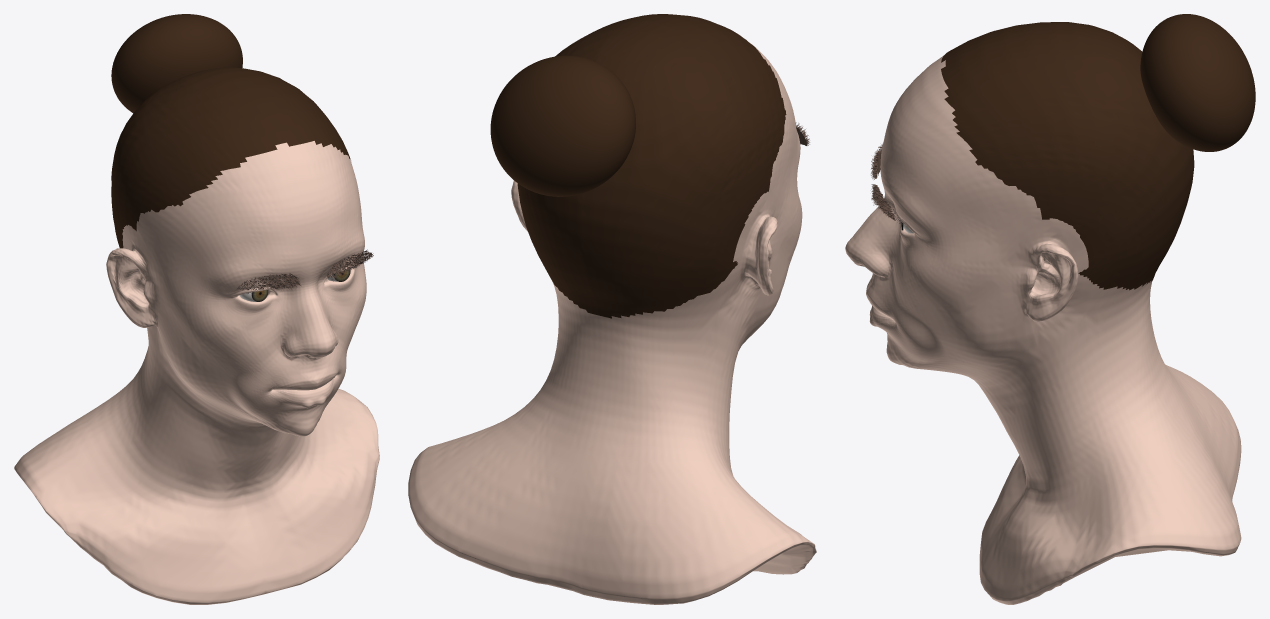
The model's file is bust-with-hair.glb.
The picture shows the model from 3 angles, left to right: view 1: azimuth 30°, elevation 25°; view 2: azimuth 150°, elevation 25°; view 3: azimuth 270°, elevation 25°; orthographic projection. The views are drawn at different scales.
Visible parts, largest first — view 1: bust_skin, hair_base, bun_core, eyebrow_hair; view 2: bust_skin, hair_base, bun_core; view 3: bust_skin, hair_base, bun_core, eyebrow_hair.
Boxes of the visible parts, x1,y1,x2,y2 form: bust_skin: [14, 141, 379, 604]; hair_base: [111, 67, 350, 248]; bun_core: [111, 14, 242, 113]; eyebrow_hair: [236, 249, 373, 290]; bust_skin: [408, 42, 816, 604]; hair_base: [517, 14, 786, 318]; bun_core: [490, 55, 635, 196]; bust_skin: [845, 55, 1241, 604]; hair_base: [941, 22, 1194, 290]; bun_core: [1140, 14, 1255, 151]; eyebrow_hair: [871, 144, 895, 220].
Size of the model in its own units: 0.2937 by 0.4205 by 0.2845.
Materials: 8 (2 with a texture image).
